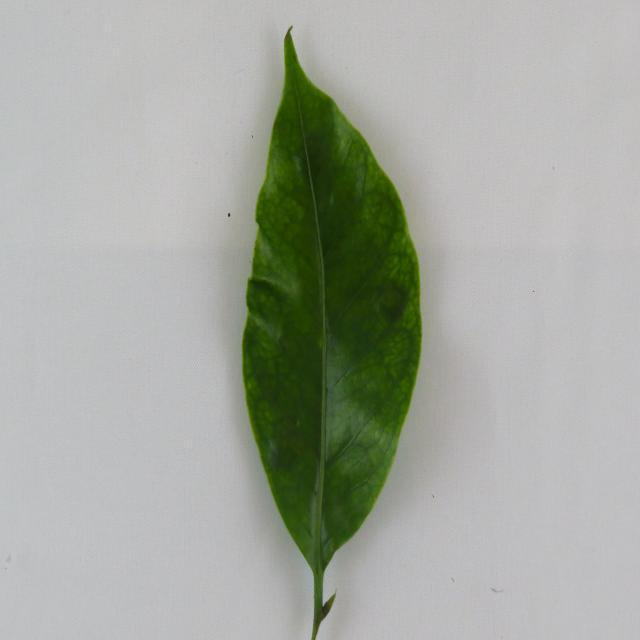DeficienciaNutricional-Manganeso: (242, 30, 421, 638)
